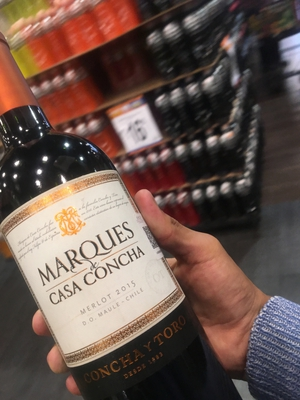marques de casa concha merlot: (1, 63, 213, 390)
